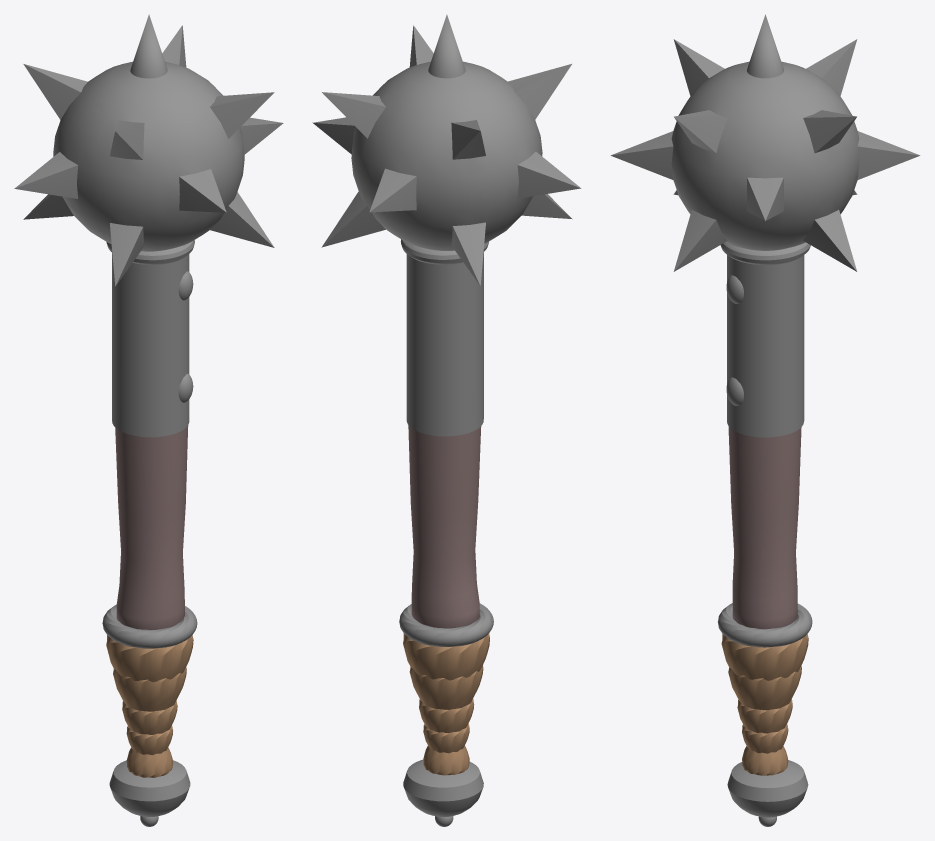
Rendered from goblinmace.fbx.
3 renders of one model, left to right at view 1: azimuth 30°, elevation 25°; view 2: azimuth 150°, elevation 25°; view 3: azimuth 270°, elevation 25°, orthographic.
Visible parts, largest first — view 1: Cylinder.005; view 2: Cylinder.005; view 3: Cylinder.005.
Boxes of the visible parts, bbox=[...] form: Cylinder.005: bbox=[14, 14, 283, 826]; Cylinder.005: bbox=[312, 14, 581, 826]; Cylinder.005: bbox=[610, 14, 920, 826].
Size of the model in its own units: 159 by 458 by 159.
